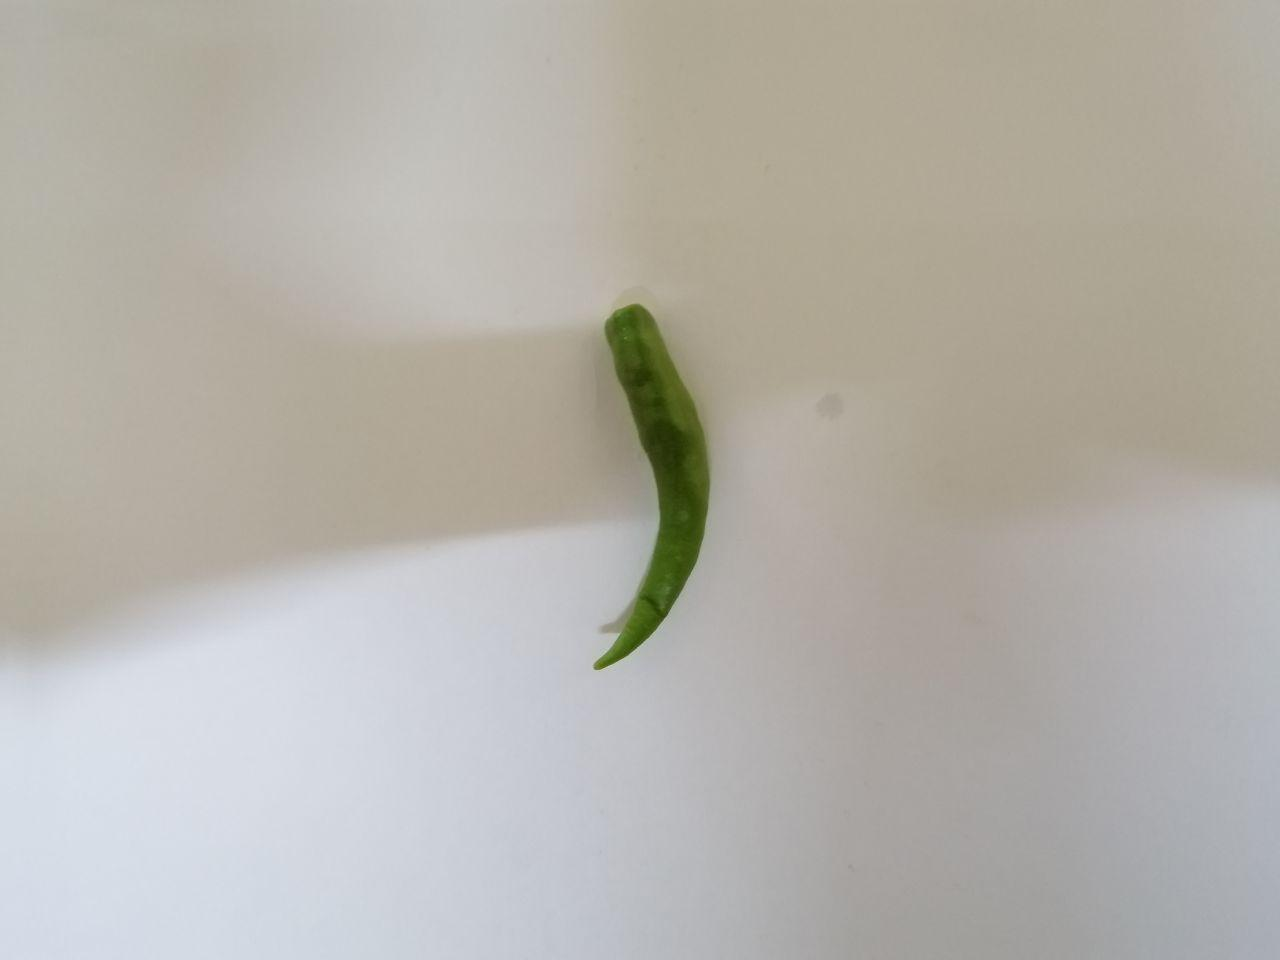lada hijau: (575, 289, 750, 708)
